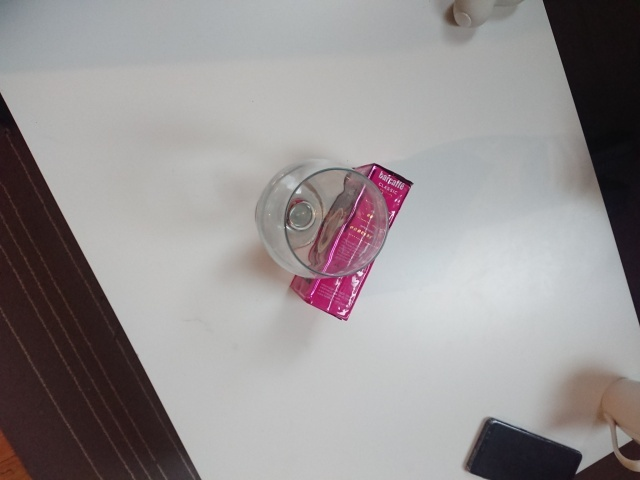Barcaffe Classic Original 225g: (286, 162, 416, 323)
